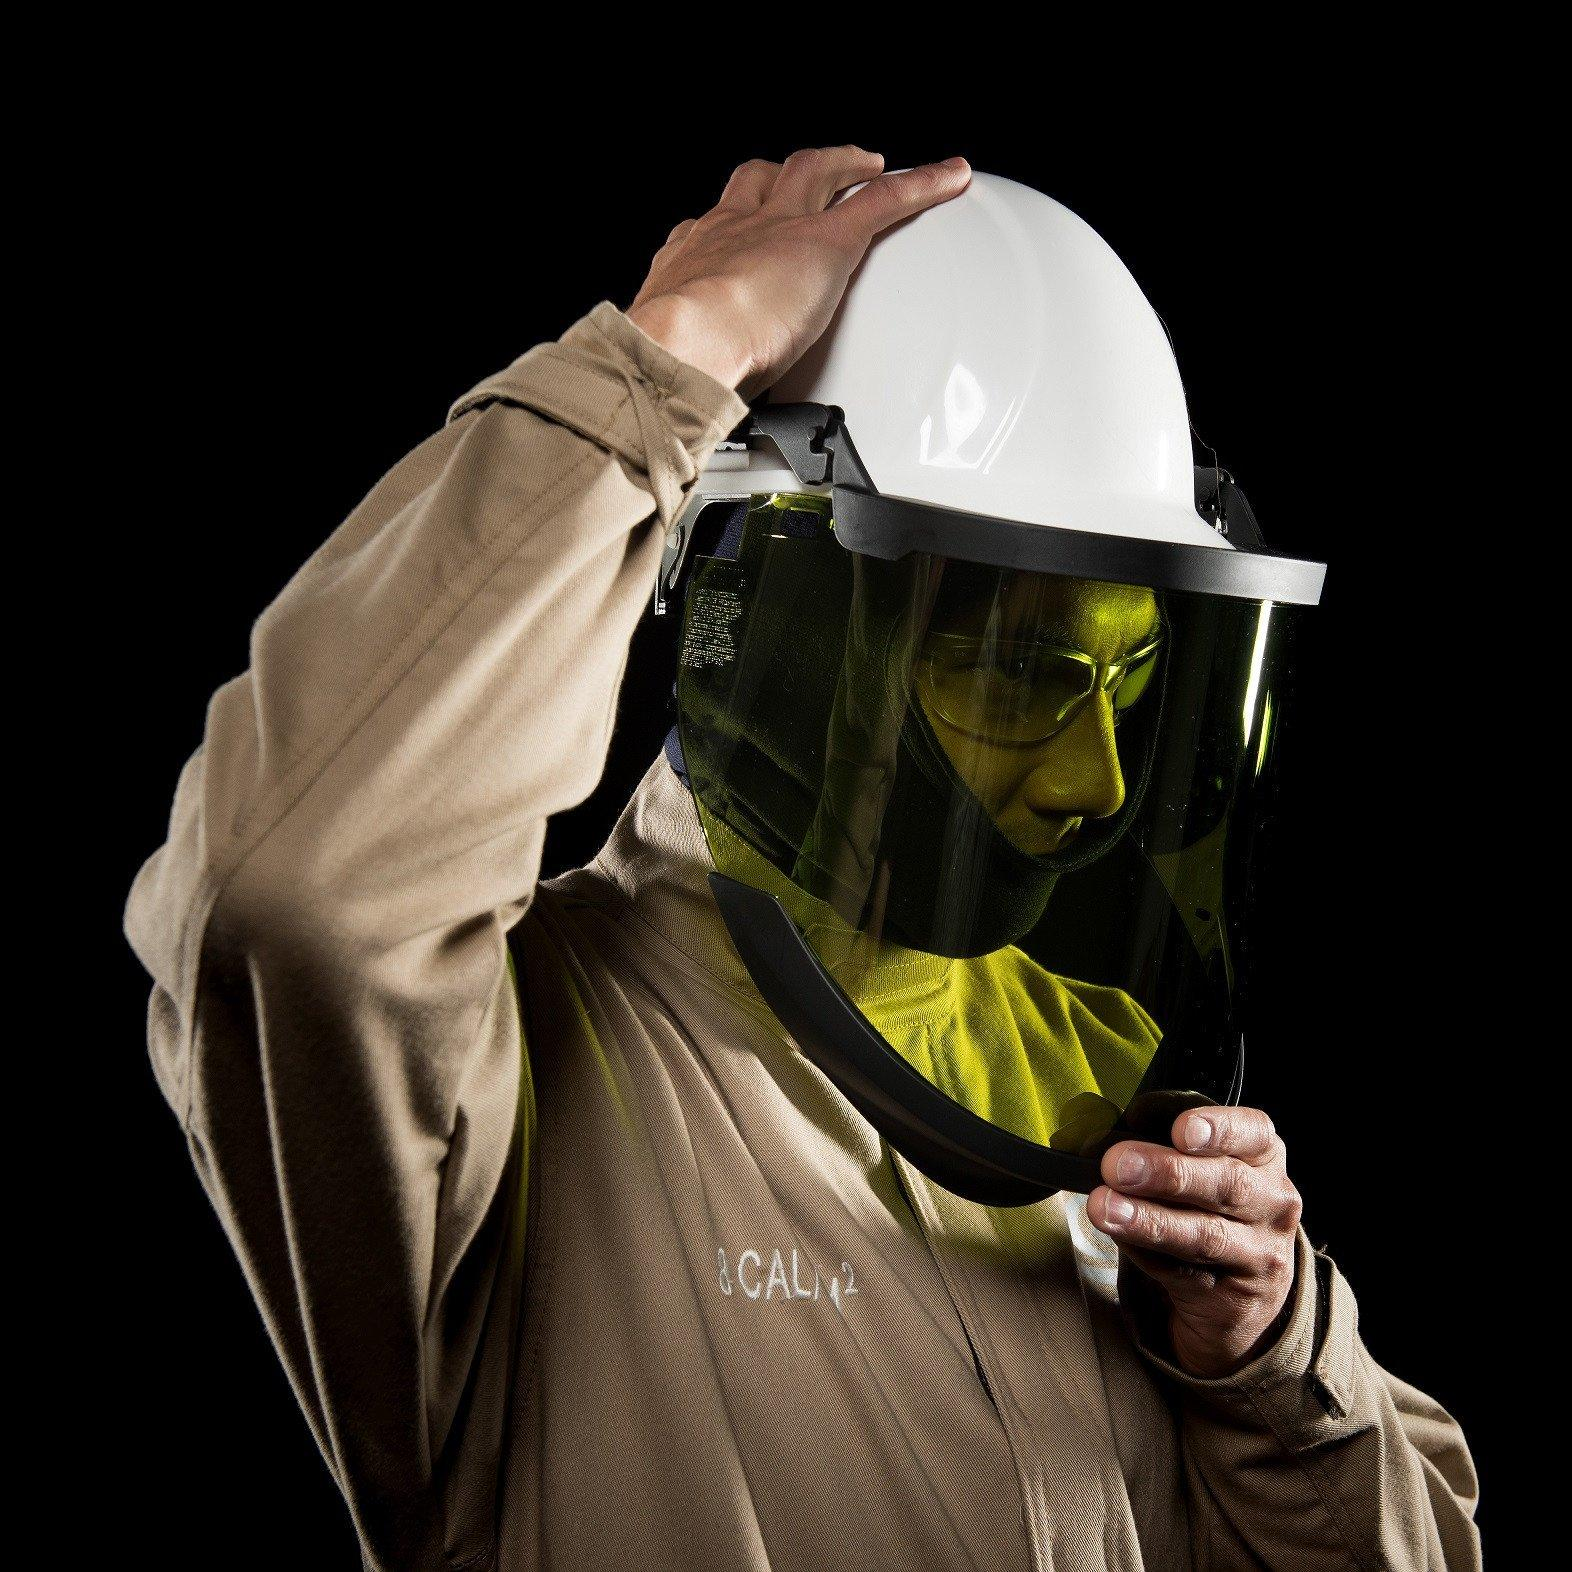helmet: (715, 151, 1254, 574)
